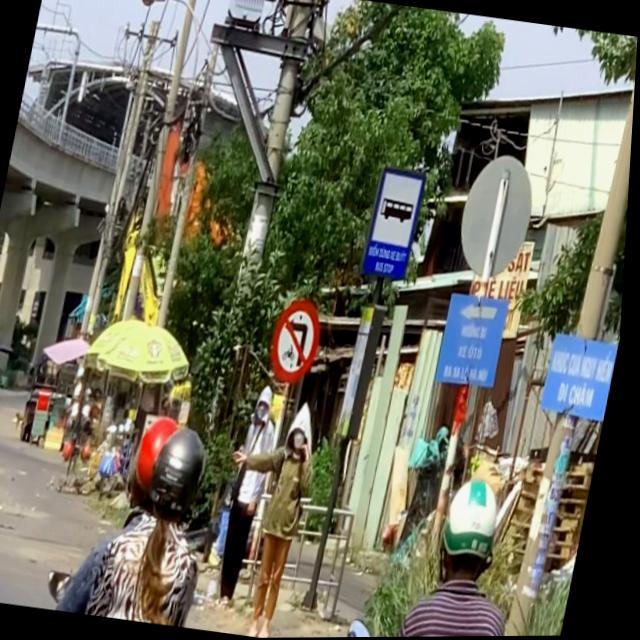Ben xe buyt: (360, 160, 432, 284)
